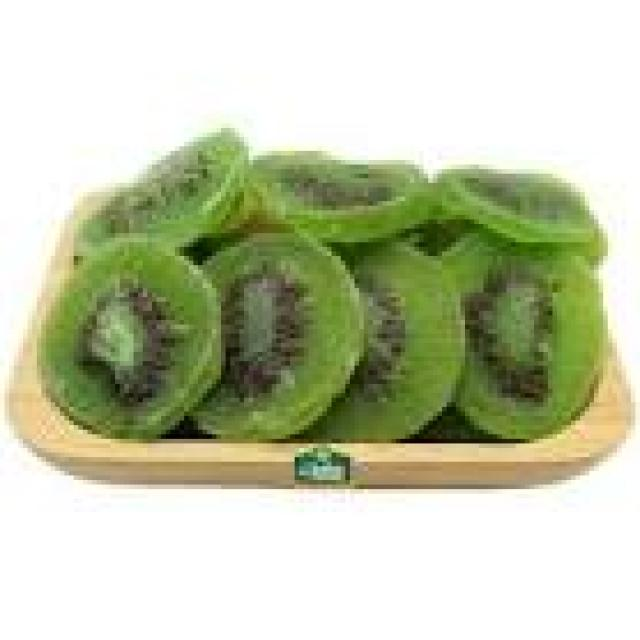kivi: (21, 130, 604, 440), (40, 238, 222, 438), (189, 231, 364, 439), (310, 241, 465, 440)
